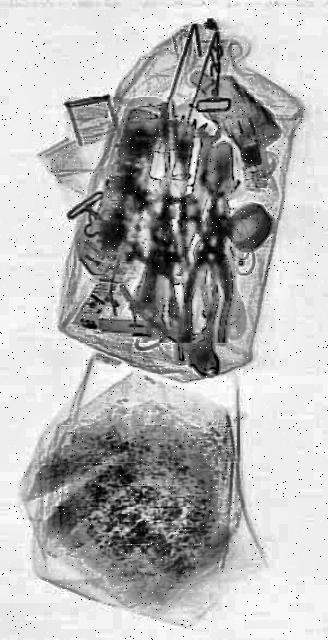Pliers: (120, 207, 238, 425), (179, 185, 241, 352)
